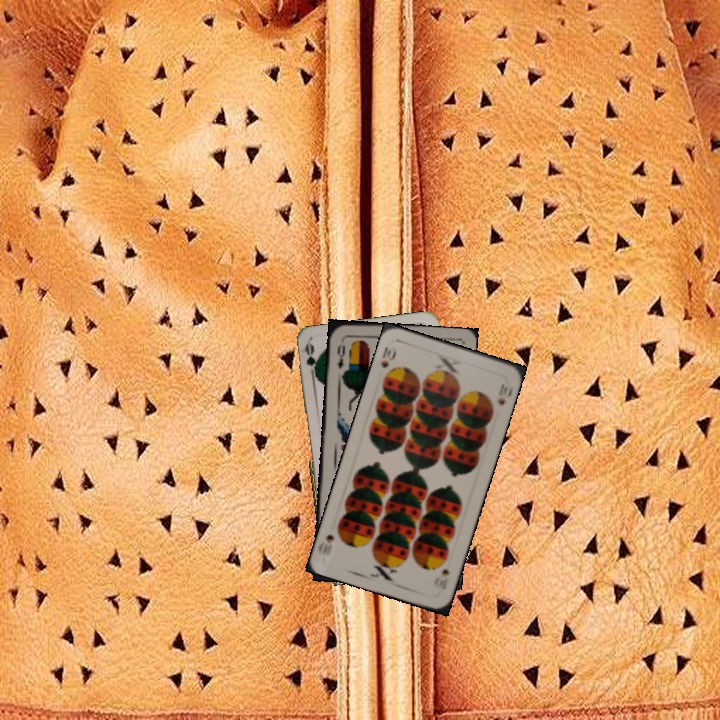EO: (333, 340, 348, 372)
GO: (300, 341, 320, 382)
S10: (377, 343, 399, 371), (437, 565, 452, 593)
